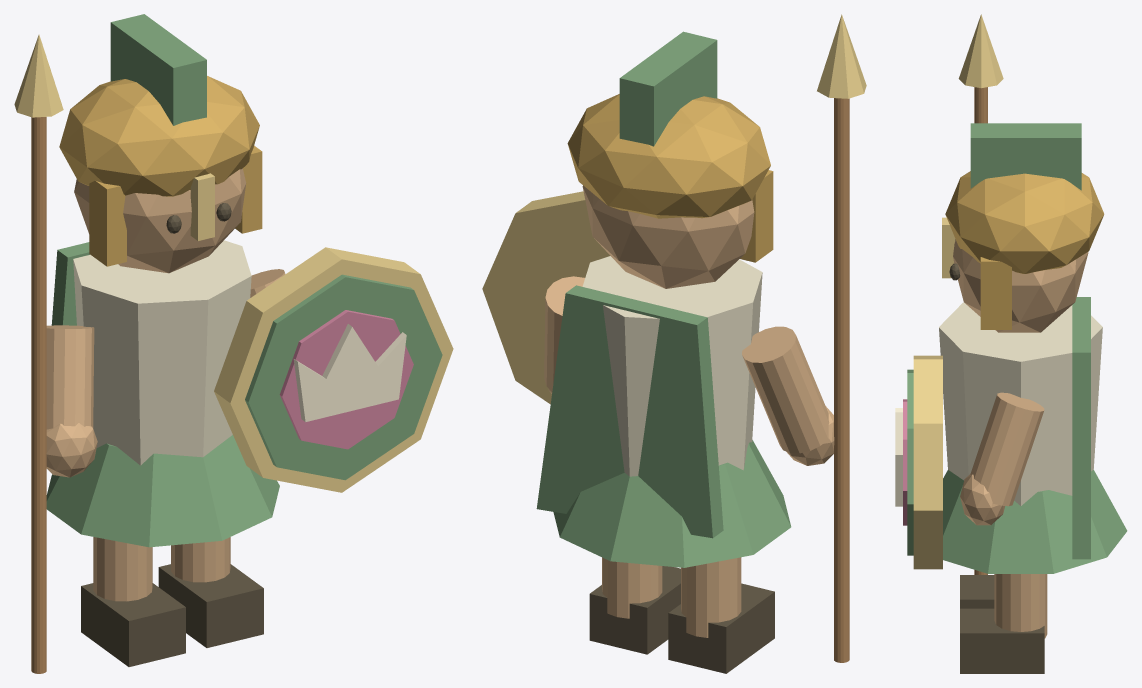
The model's file is faceted.glb.
3 renders of one model, left to right at view 1: azimuth 30°, elevation 25°; view 2: azimuth 150°, elevation 25°; view 3: azimuth 270°, elevation 25°, orthographic. The views are drawn at different scales.
Parts seen in each view (by area): view 1: Linen cuirass, Pleated green skirt, Bronze helmet, Shield face, Shield rim, Spear shaft, Face, Shield face.001, Green crest, Crown relief, Sandal, Sandal.001 (+9 smaller); view 2: Cape, Bronze helmet, Linen cuirass, Pleated green skirt, Shield rim, Face, Spear shaft, Green crest, Arm, Sandal, Sandal.001, Leg (+5 smaller); view 3: Linen cuirass, Bronze helmet, Pleated green skirt, Shield rim, Green crest, Face, Arm.001, Cape, Sandal.001, Leg.001, Cheek guard.001, Spear tip (+7 smaller).
Boxes of the visible parts, box(x1,y1,x2,y2) form: Linen cuirass: box(73, 240, 251, 465); Pleated green skirt: box(46, 435, 279, 547); Bronze helmet: box(59, 76, 259, 196); Shield face: box(245, 274, 442, 480); Shield rim: box(214, 247, 453, 492); Spear shaft: box(31, 117, 46, 673); Face: box(74, 168, 246, 273); Shield face.001: box(279, 310, 413, 449); Green crest: box(110, 14, 206, 125); Crown relief: box(293, 324, 406, 422); Sandal: box(81, 583, 185, 666); Sandal.001: box(158, 564, 263, 647); Cape: box(536, 285, 723, 538); Bronze helmet: box(567, 94, 770, 218); Linen cuirass: box(582, 256, 762, 476); Pleated green skirt: box(553, 440, 791, 567); Shield rim: box(482, 191, 610, 404); Face: box(582, 185, 754, 288); Spear shaft: box(834, 98, 849, 662); Green crest: box(619, 31, 717, 146); Arm: box(742, 326, 829, 453); Sandal: box(668, 583, 774, 673); Sandal.001: box(589, 566, 680, 654); Leg: box(681, 557, 741, 637); Linen cuirass: box(939, 302, 1102, 505); Bronze helmet: box(945, 171, 1104, 273); Pleated green skirt: box(943, 470, 1127, 573); Shield rim: box(913, 355, 942, 569); Green crest: box(970, 123, 1081, 190); Face: box(953, 239, 1088, 332); Arm.001: box(970, 392, 1044, 506); Cape: box(1072, 297, 1090, 559); Sandal.001: box(960, 608, 1044, 673); Leg.001: box(994, 574, 1047, 638); Cheek guard.001: box(980, 257, 1011, 329); Spear tip: box(958, 14, 1003, 88).
Bounding box in the file's own units: 1.54 × 2.37 × 0.877.
